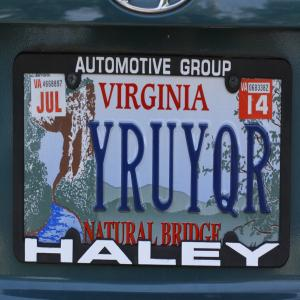Vehicle-registration-plate: (17, 45, 298, 274)
